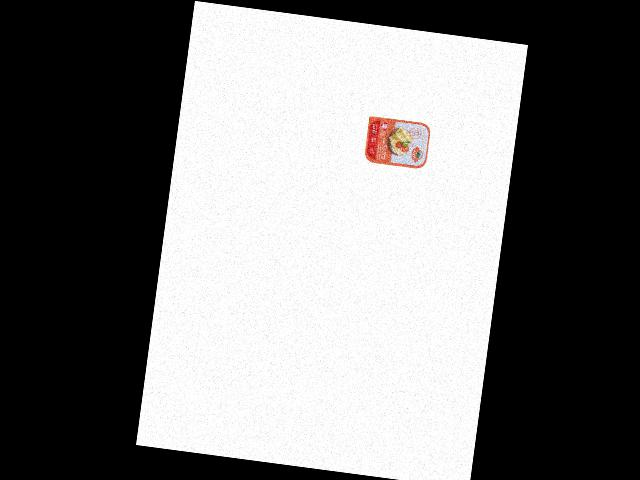cheese: (359, 114, 433, 172)
